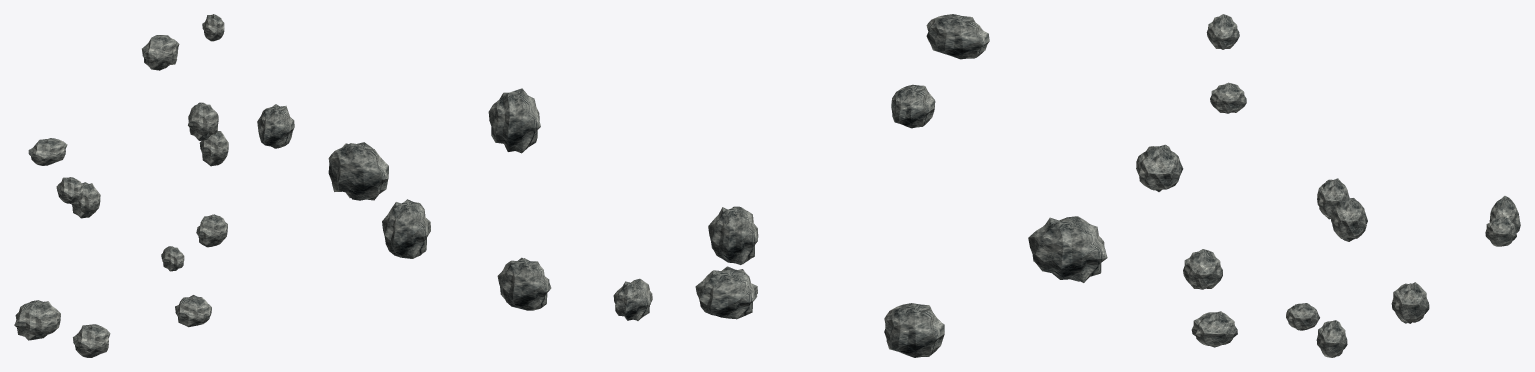
The model's file is cluster_03.glb.
3 renders of one model, left to right at view 1: azimuth 30°, elevation 25°; view 2: azimuth 150°, elevation 25°; view 3: azimuth 270°, elevation 25°, orthographic. The views are drawn at different scales.
Parts seen in each view (by area): view 1: cluster; view 2: cluster; view 3: cluster.
Part boxes in pixels (x1,y1,x2,y2): cluster: (14, 14, 228, 357); cluster: (257, 14, 1107, 357); cluster: (1136, 14, 1520, 357).
Size of the model in its own units: 4.35 by 2.53 by 3.53.
1 material, 1 textured.
